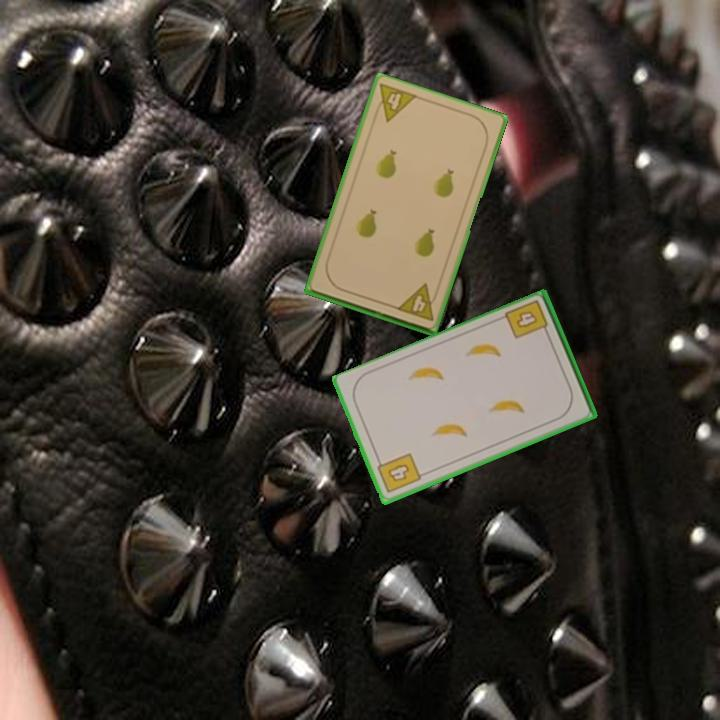4b: (373, 450, 424, 496), (502, 297, 552, 342)
4p: (369, 80, 420, 125), (393, 281, 441, 323)
